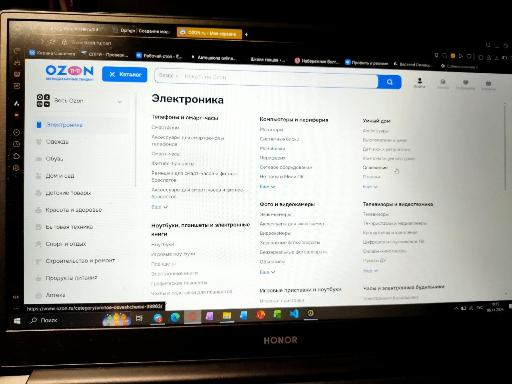ozon: (26, 59, 512, 302)
